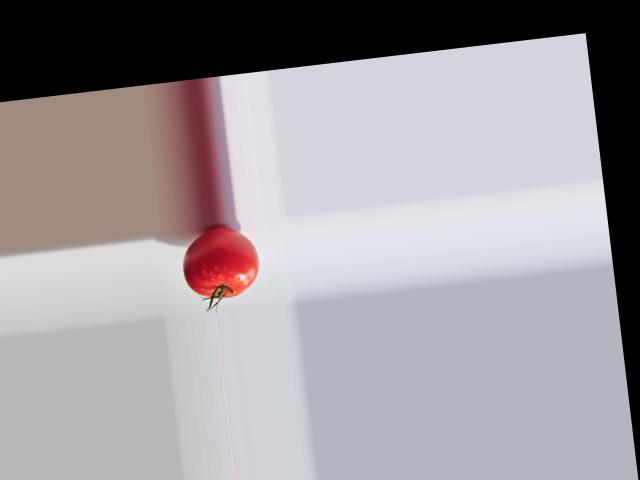tomato: (179, 222, 263, 301)
